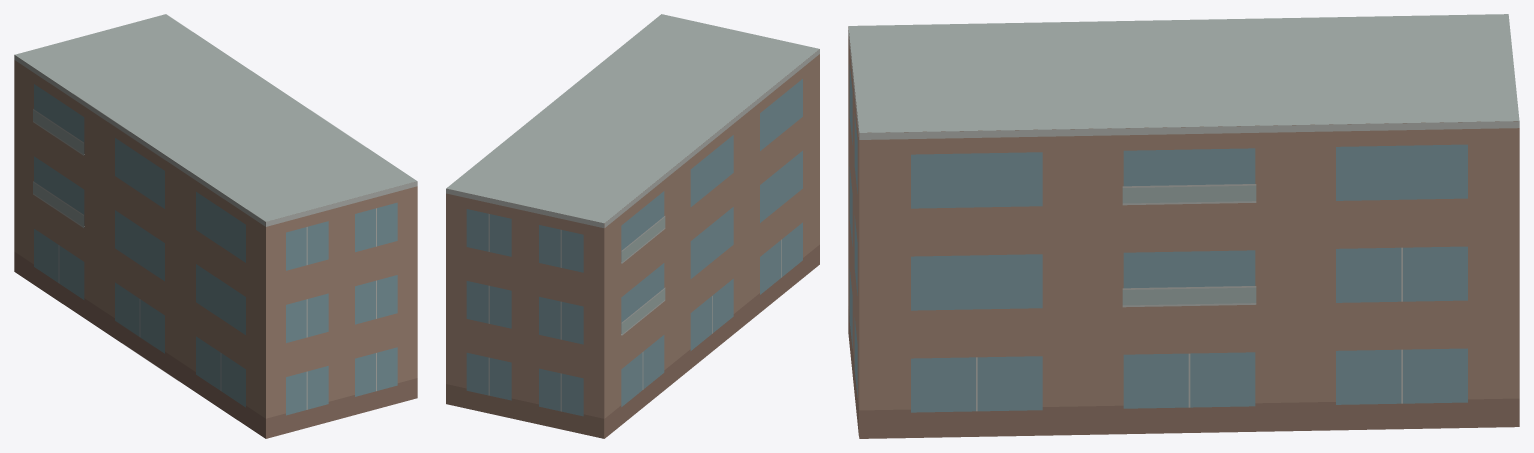
File: survey-upis-32496234.glb
3 renders of one model, left to right at view 1: azimuth 30°, elevation 25°; view 2: azimuth 150°, elevation 25°; view 3: azimuth 270°, elevation 25°, orthographic. The views are drawn at different scales.
Visible parts, largest first — view 1: survey-upis-32496234.tmp; view 2: survey-upis-32496234.tmp; view 3: survey-upis-32496234.tmp.
Part boxes in pixels (x1,y1,x2,y2): survey-upis-32496234.tmp: [14, 14, 417, 438]; survey-upis-32496234.tmp: [446, 14, 819, 438]; survey-upis-32496234.tmp: [848, 14, 1519, 438].
Size of the model in its own units: 8.76 by 10.5 by 20.89.
